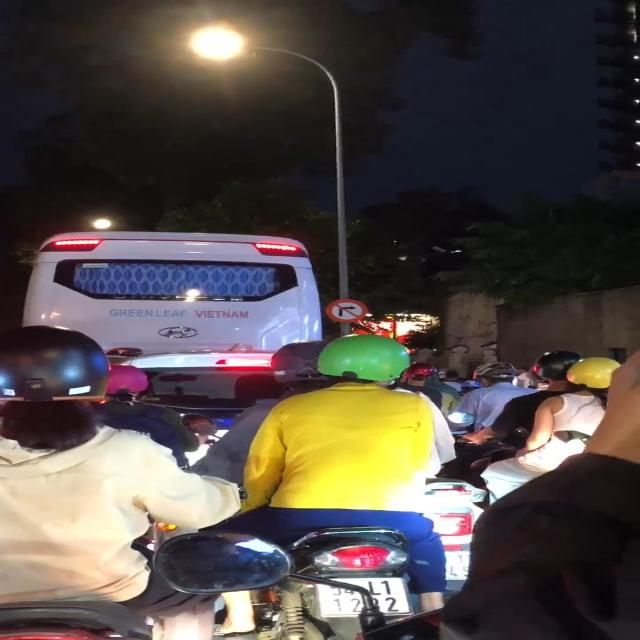Bien bao cam re phai: (324, 296, 372, 325)
